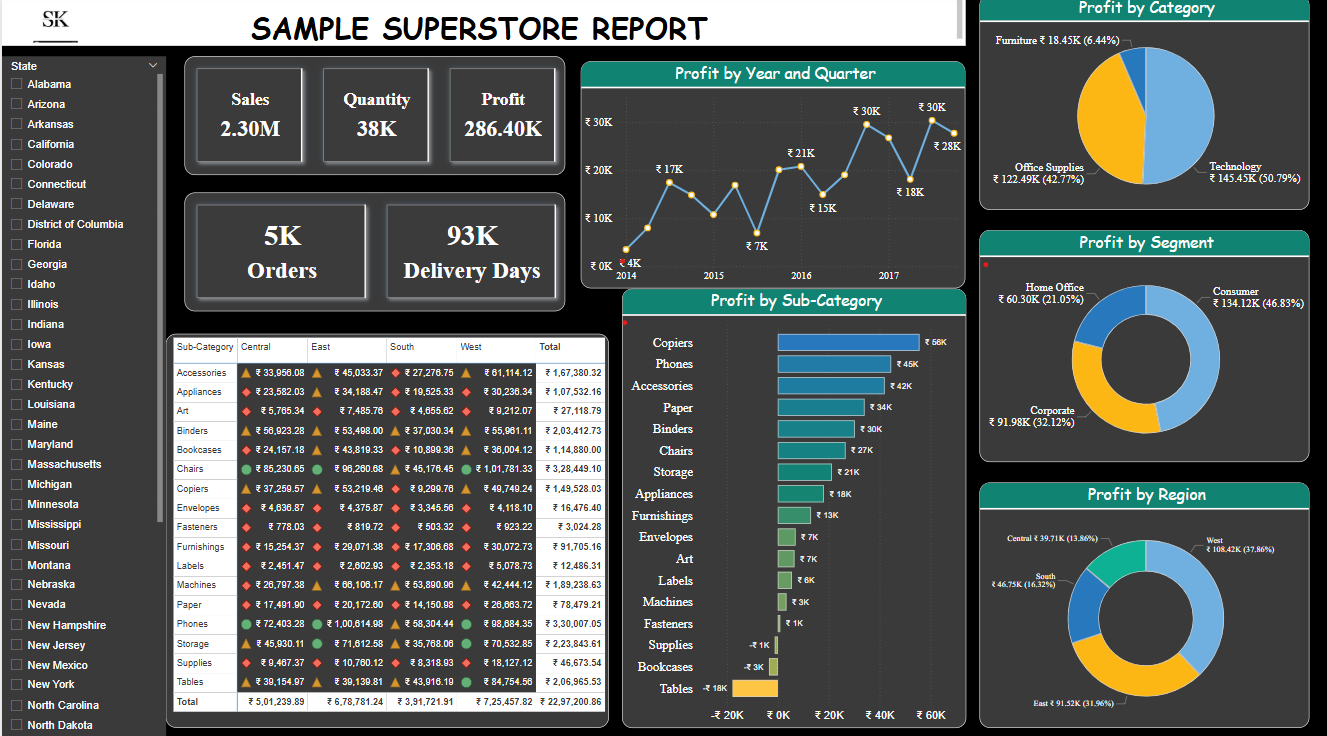

The dashboard page shown, as its layout file describes it:
{"tool":"powerbi","page":{"name":"Sample SuperStore Report","canvas":[1920,1080],"ordinal":0},"visuals":[{"type":"textbox","box":[0,0,1395.2,73.6],"z":0},{"type":"donutChart","title":"Profit by Region","fields":{"Category":["SuperStore.Region"],"Y":["Sum(SuperStore.Profit)"]},"box":[1415.9,706.1,477.6,354.9],"z":1},{"type":"donutChart","title":"Profit by Segment","fields":{"Y":["Sum(SuperStore.Profit)"],"Category":["SuperStore.Segment"]},"box":[1415.9,339.8,477.6,336],"z":2},{"type":"pieChart","title":"Profit by Category","fields":{"Y":["Sum(SuperStore.Profit)"],"Category":["SuperStore.Category"]},"box":[1415.9,0,477.6,311.5],"z":3},{"type":"lineChart","title":"Profit by Year and Quarter","fields":{"Y":["Sum(SuperStore.Profit)"],"Category":["SuperStore.Order Date.Variation.Date Hierarchy.Year","SuperStore.Order Date.Variation.Date Hierarchy.Quarter"]},"box":[838.2,96.3,556.9,328.5],"z":4},{"type":"clusteredBarChart","title":"Profit by Sub-Category","fields":{"Category":["SuperStore.Sub-Category"],"Y":["Sum(SuperStore.Profit)"]},"box":[896.8,424.8,498.4,636.2],"z":5},{"type":"cardVisual","fields":{"Data":["SuperStore.Total Sales","SuperStore.Total Quantity","SuperStore.Total Profit"]},"box":[264.3,88.7,551.3,171.8],"z":6},{"type":"pivotTable","fields":{"Rows":["SuperStore.Sub-Category"],"Columns":["SuperStore.Region"],"Values":["Sum(SuperStore.Sales)"]},"box":[237.9,490.9,641.9,570.1],"z":7},{"type":"slicer","fields":{"Values":["SuperStore.State"]},"box":[0,88.7,237.9,991.2],"z":8},{"type":"cardVisual","fields":{"Data":["SuperStore.Total Orders","Sum(SuperStore.Delivery Days)"]},"box":[264.3,285.1,551.3,171.8],"z":9},{"type":"image","box":[0,0,155.6,74.2],"z":10}]}

Visuals, with their boxes in screenshot pixels (x1, y1, x2, y2), scaled from the page's 1920x1080 canvas onto the 1327x736 screenshot:
textbox: 0:0:964:50
"Profit by Region" donutChart: 979:481:1309:723
"Profit by Segment" donutChart: 979:232:1309:461
"Profit by Category" pieChart: 979:0:1309:212
"Profit by Year and Quarter" lineChart: 579:66:964:289
"Profit by Sub-Category" clusteredBarChart: 620:289:964:723
cardVisual - SuperStore.Total Sales x SuperStore.Total Quantity: 183:60:564:178
pivotTable - SuperStore.Sub-Category x SuperStore.Region: 164:335:608:723
slicer - SuperStore.State: 0:60:164:735
cardVisual - SuperStore.Total Orders x Sum(SuperStore.Delivery Days): 183:194:564:311
image: 0:0:108:51
